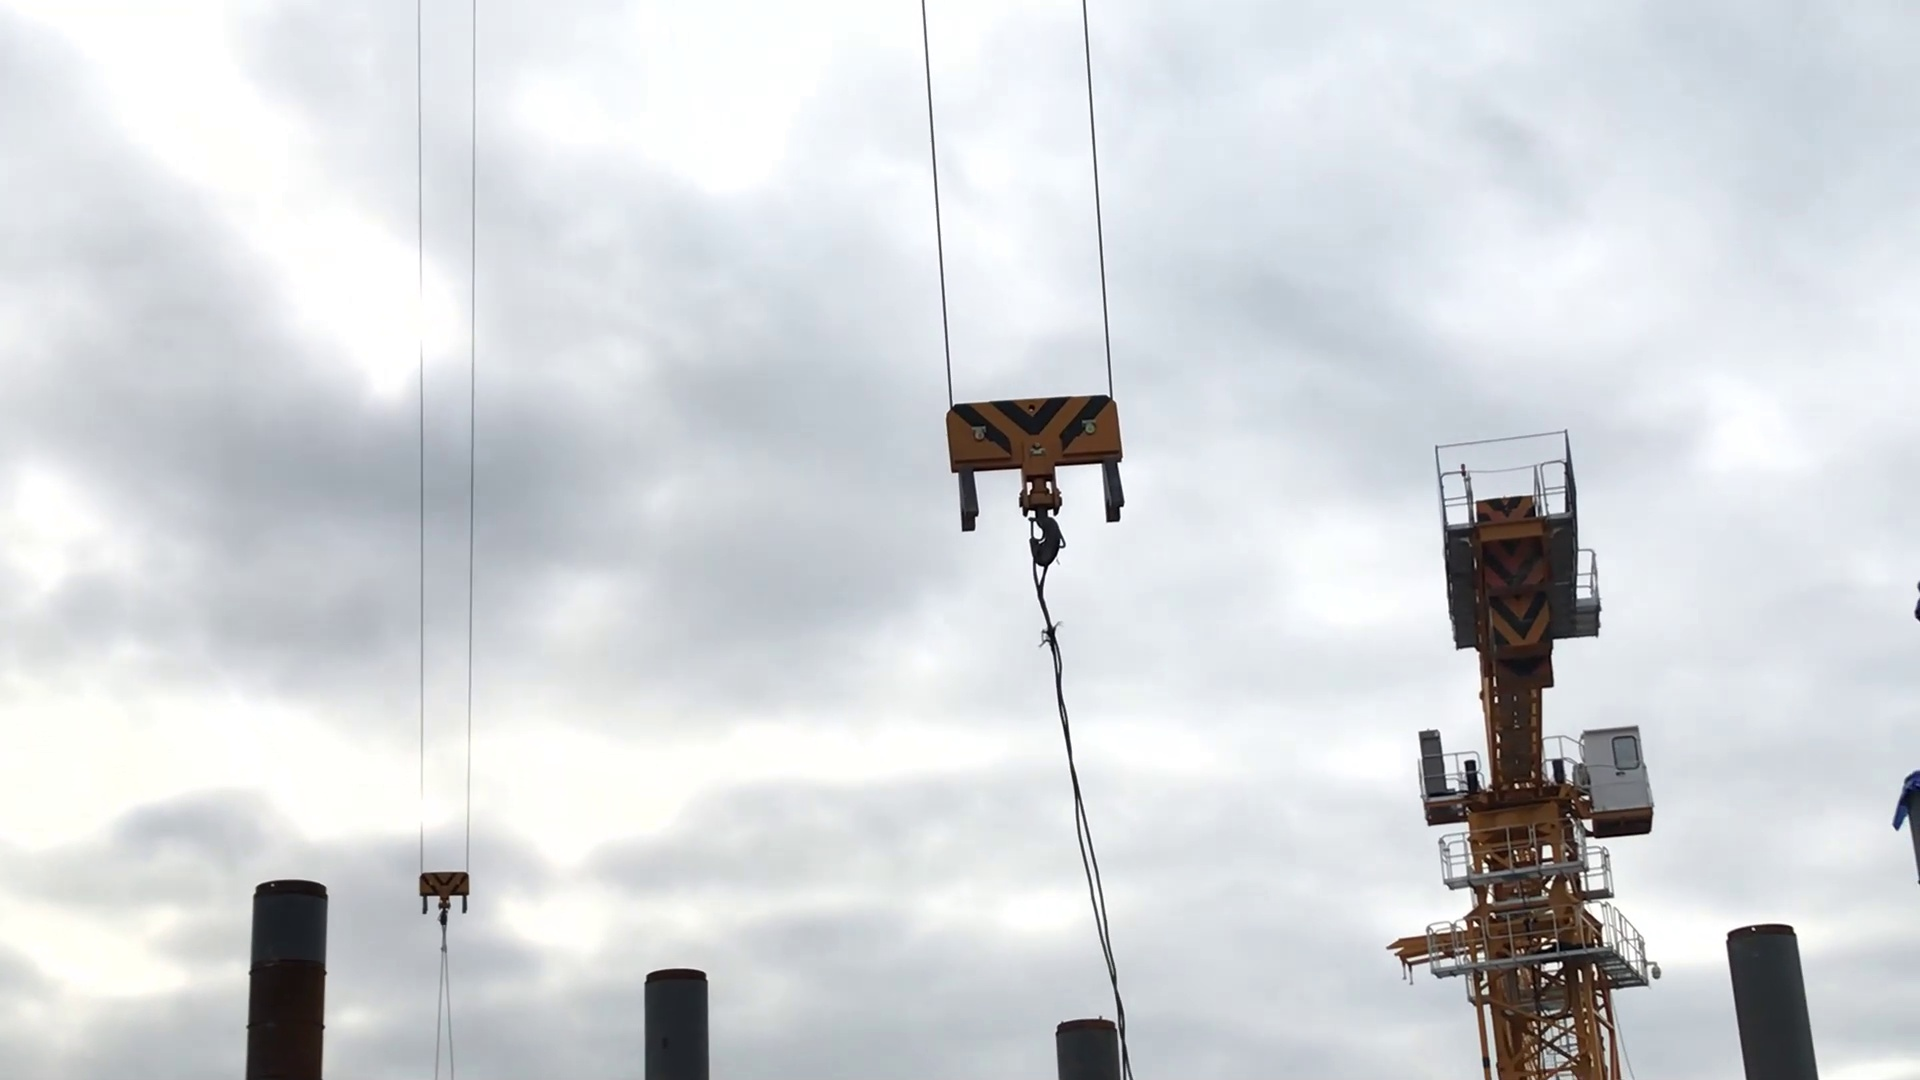hook: (920, 389, 1134, 578), (411, 860, 476, 930)
